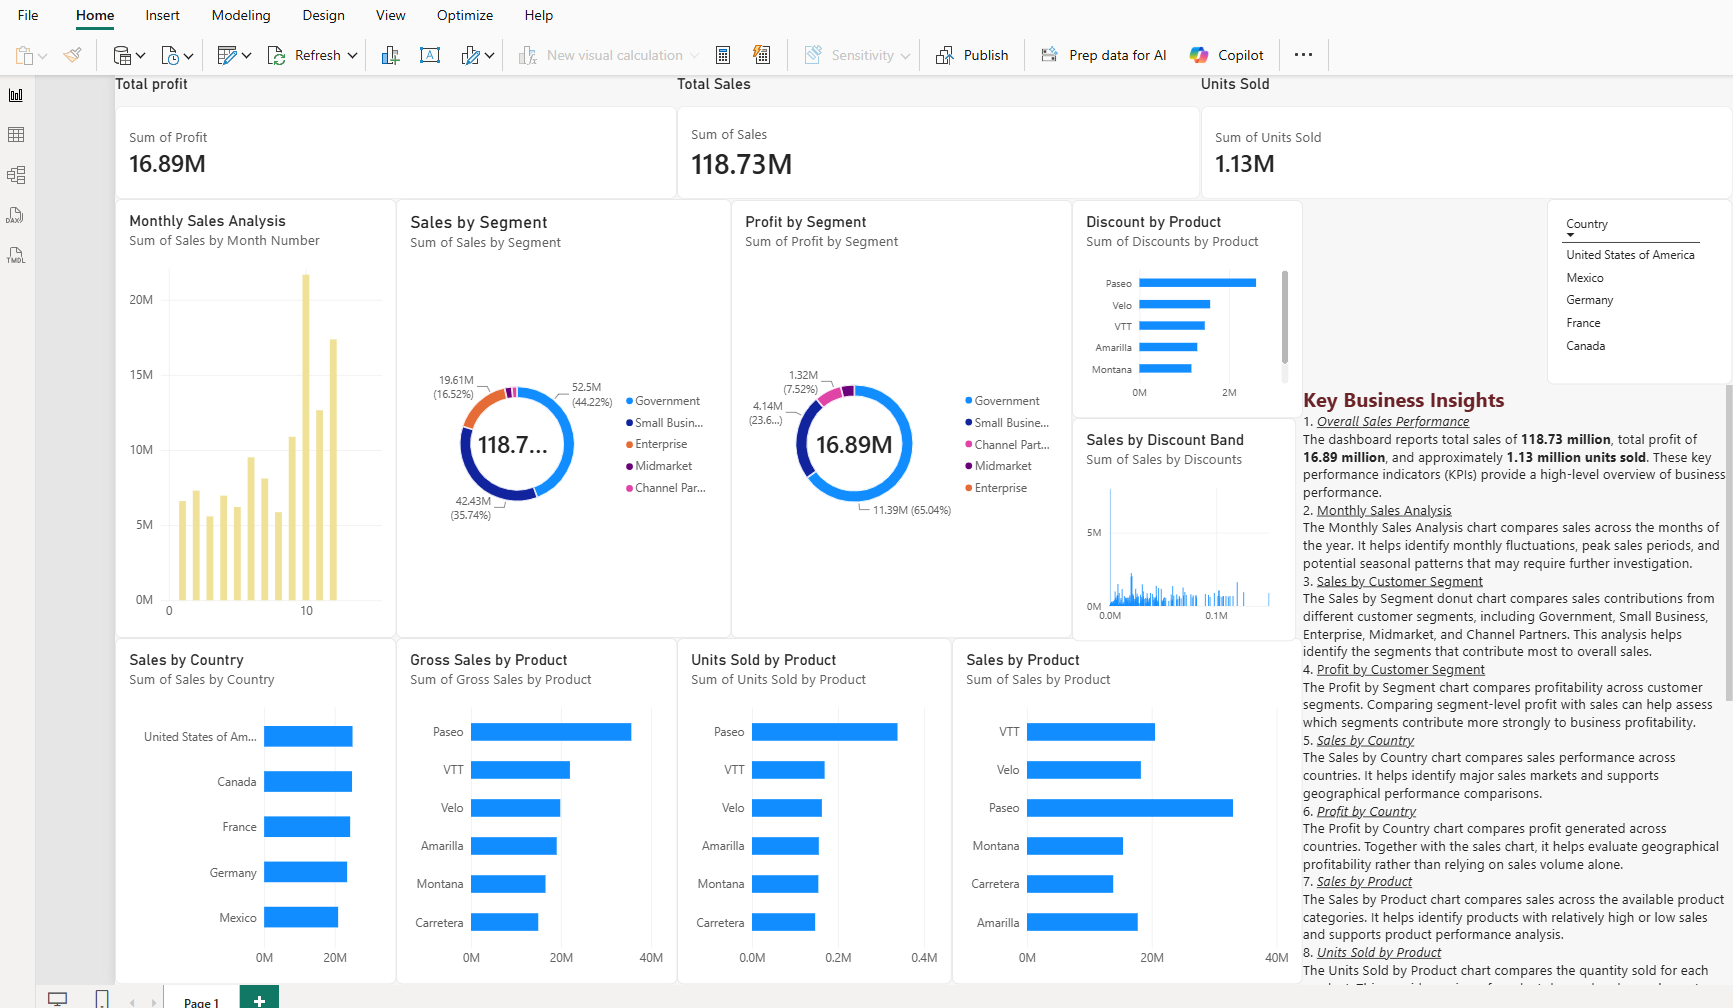

What the dashboard file says about the page in this screenshot:
{"tool":"powerbi","page":{"name":"Page 1","canvas":[1920,1080],"ordinal":0},"visuals":[{"type":"clusteredColumnChart","title":"Monthly Sales Analysis","fields":{"Category":["financials.Month Number"],"Y":["Sum(financials.Sales)"]},"box":[0,147.5,333.8,521.2],"z":0},{"type":"cardVisual","title":"Total Sales","fields":{"Data":["Sum(financials.Sales)"]},"box":[667.1,0,621.4,147.1],"z":1000},{"type":"cardVisual","title":"Total profit","fields":{"Data":["Sum(financials.Profit)"]},"box":[0,0,667.1,147.1],"z":2000},{"type":"cardVisual","title":"Units Sold","fields":{"Data":["Sum(financials.Units Sold)"]},"box":[1288.6,0,631.4,147.1],"z":3000},{"type":"tableEx","fields":{"Values":["financials.Country"]},"box":[1700,147.5,220,220],"z":4000},{"type":"donutChart","title":"Sales by Segment","fields":{"Category":["financials.Segment"],"Y":["Sum(financials.Sales)"]},"box":[333.8,147.5,397.5,521.2],"z":5000},{"type":"clusteredBarChart","title":"Sales by Country","fields":{"Category":["financials.Country"],"Y":["Sum(financials.Sales)"]},"box":[0,668.8,333.8,411.2],"z":6000},{"type":"donutChart","title":"Profit by Segment","fields":{"Category":["financials.Segment"],"Y":["Sum(financials.Profit)"]},"box":[731.2,148.8,405,520],"z":7000},{"type":"clusteredBarChart","title":"Sales by Product","fields":{"Category":["financials.Product"],"Y":["Sum(financials.Sales)"]},"box":[993.8,668.8,416.2,411.2],"z":8000},{"type":"clusteredColumnChart","title":"Sales by Discount Band","fields":{"Category":["financials.Discounts"],"Y":["Sum(financials.Sales)"]},"box":[1136.2,407.5,266.2,265],"z":8001},{"type":"clusteredBarChart","title":"Units Sold by Product","fields":{"Category":["financials.Product"],"Y":["Sum(financials.Units Sold)"]},"box":[667.5,668.8,326.2,411.2],"z":8002},{"type":"clusteredBarChart","title":"Gross Sales by Product","fields":{"Category":["financials.Product"],"Y":["Sum(financials.Gross Sales)"]},"box":[333.8,668.8,333.8,411.2],"z":8003},{"type":"clusteredBarChart","title":"Discount by Product","fields":{"Category":["financials.Product"],"Y":["Sum(financials.Discounts)"]},"box":[1136.2,148.8,273.8,258.8],"z":8004},{"type":"textbox","box":[1410,367.5,510,712.5],"z":8009}]}

Visuals, with their boxes on the page's 1920x1080 design canvas (x1, y1, x2, y2). These are canvas units, not pixel positions in the 1733x1008 screenshot, which may show the page scaled, cropped or inside an application window:
"Monthly Sales Analysis" clusteredColumnChart: {"left": 0, "top": 148, "right": 334, "bottom": 669}
"Total Sales" cardVisual: {"left": 667, "top": 0, "right": 1288, "bottom": 147}
"Total profit" cardVisual: {"left": 0, "top": 0, "right": 667, "bottom": 147}
"Units Sold" cardVisual: {"left": 1289, "top": 0, "right": 1920, "bottom": 147}
tableEx - financials.Country: {"left": 1700, "top": 148, "right": 1920, "bottom": 368}
"Sales by Segment" donutChart: {"left": 334, "top": 148, "right": 731, "bottom": 669}
"Sales by Country" clusteredBarChart: {"left": 0, "top": 669, "right": 334, "bottom": 1080}
"Profit by Segment" donutChart: {"left": 731, "top": 149, "right": 1136, "bottom": 669}
"Sales by Product" clusteredBarChart: {"left": 994, "top": 669, "right": 1410, "bottom": 1080}
"Sales by Discount Band" clusteredColumnChart: {"left": 1136, "top": 408, "right": 1402, "bottom": 672}
"Units Sold by Product" clusteredBarChart: {"left": 668, "top": 669, "right": 994, "bottom": 1080}
"Gross Sales by Product" clusteredBarChart: {"left": 334, "top": 669, "right": 668, "bottom": 1080}
"Discount by Product" clusteredBarChart: {"left": 1136, "top": 149, "right": 1410, "bottom": 408}
textbox: {"left": 1410, "top": 368, "right": 1920, "bottom": 1080}
